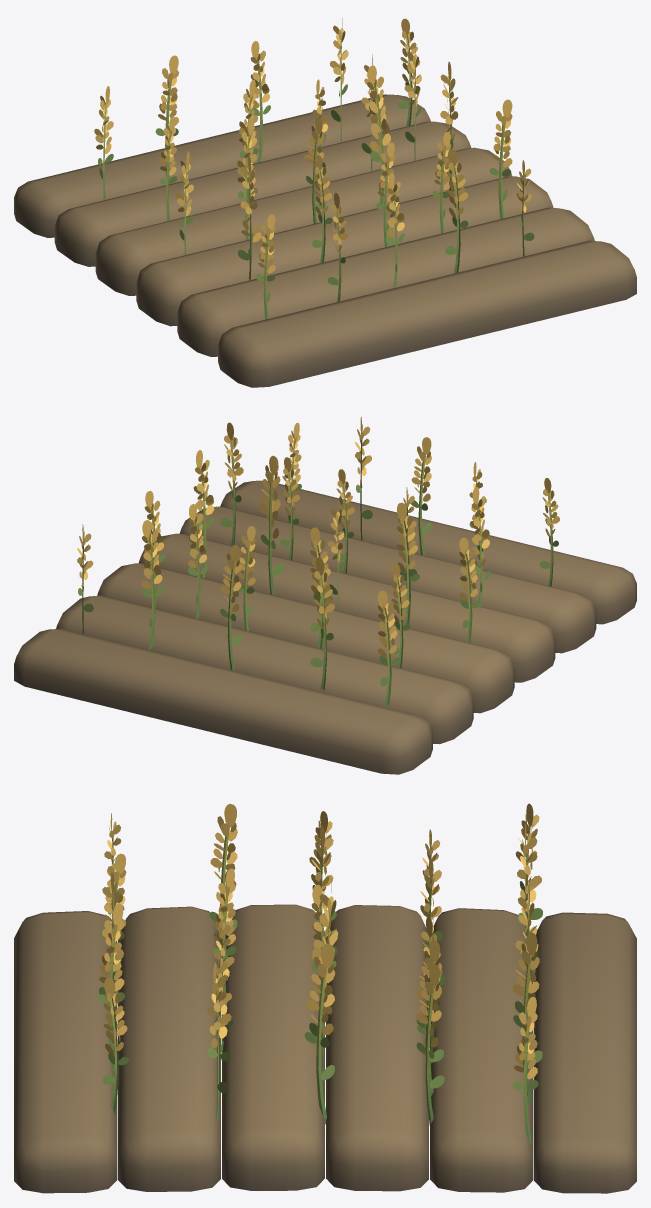
Rendered from SM_Crop_1.fbx.
3 renders of one model, top to bottom at view 1: azimuth 30°, elevation 25°; view 2: azimuth 150°, elevation 25°; view 3: azimuth 270°, elevation 25°, orthographic. The views are drawn at different scales.
Parts seen in each view (by area): view 1: SM_Crop_1; view 2: SM_Crop_1; view 3: SM_Crop_1.
Boxes of the visible parts, x1,y1,x2,y2 form: SM_Crop_1: (14,18,636,387); SM_Crop_1: (14,416,636,774); SM_Crop_1: (14,803,636,1193).
Size of the model in its own units: 309 by 130 by 330.
